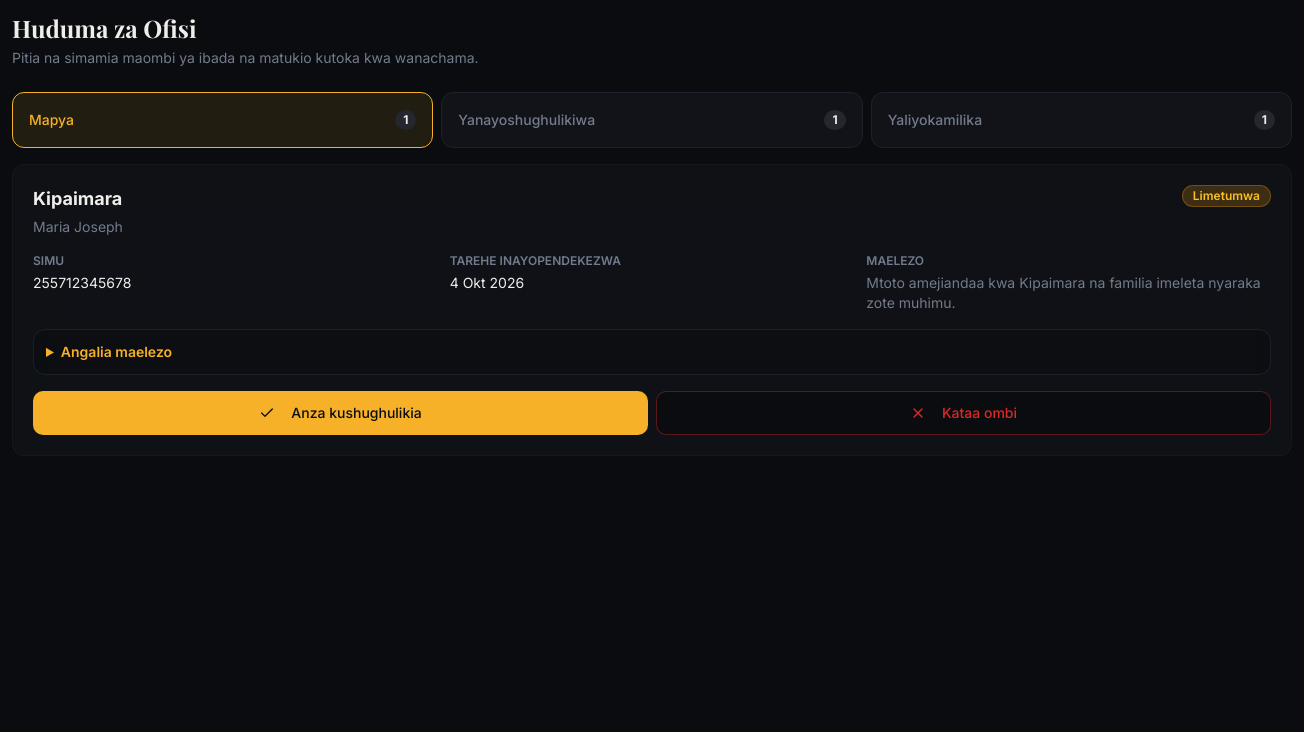
Test: Wave 25 office services UX › expands read-only request details without adding edit controls
The width and height of the screenshot is (1304, 732).
Click the heading "Angalia maelezo".
click(116, 352)  # box [61,343,172,360]
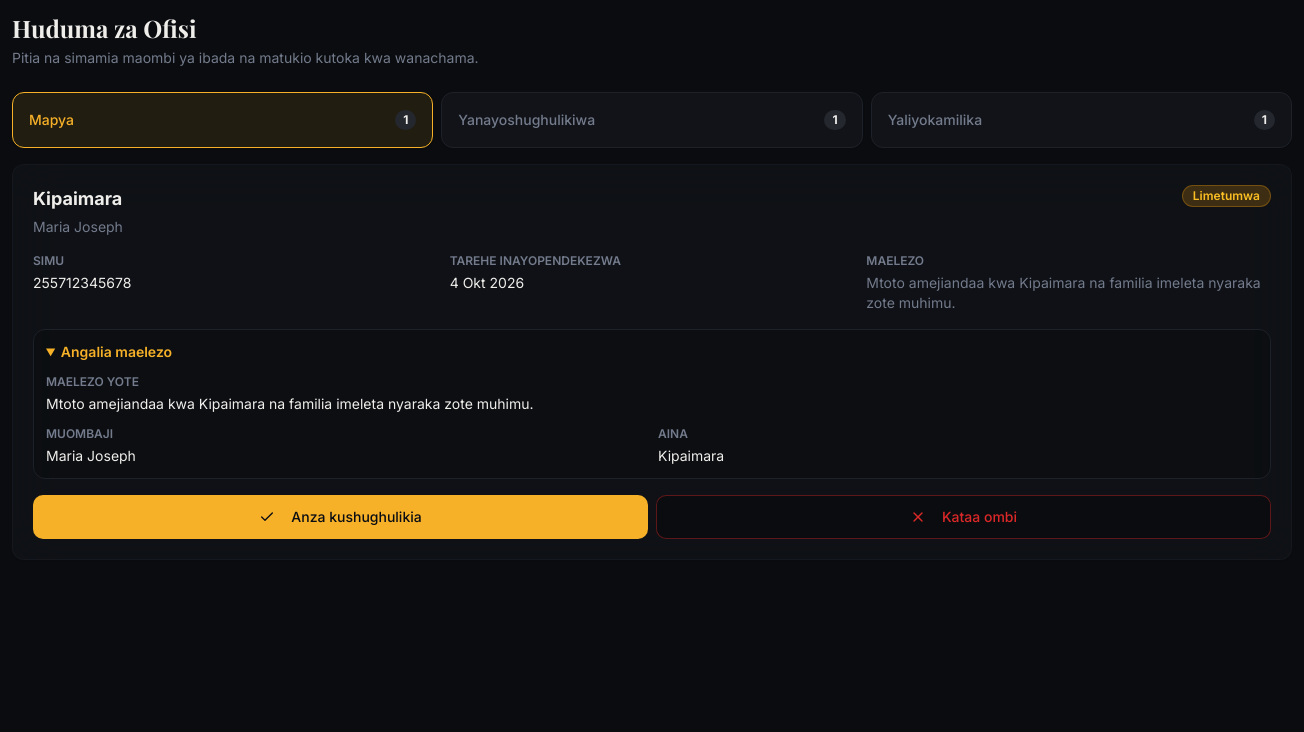
Expected: the text "Mtoto amejiandaa kwa Kipaimara na familia imeleta nyaraka zote muhimu." is shown, [866,273,1271,313]
Expected: the text "Maelezo yote" is shown, [46,374,139,389]
